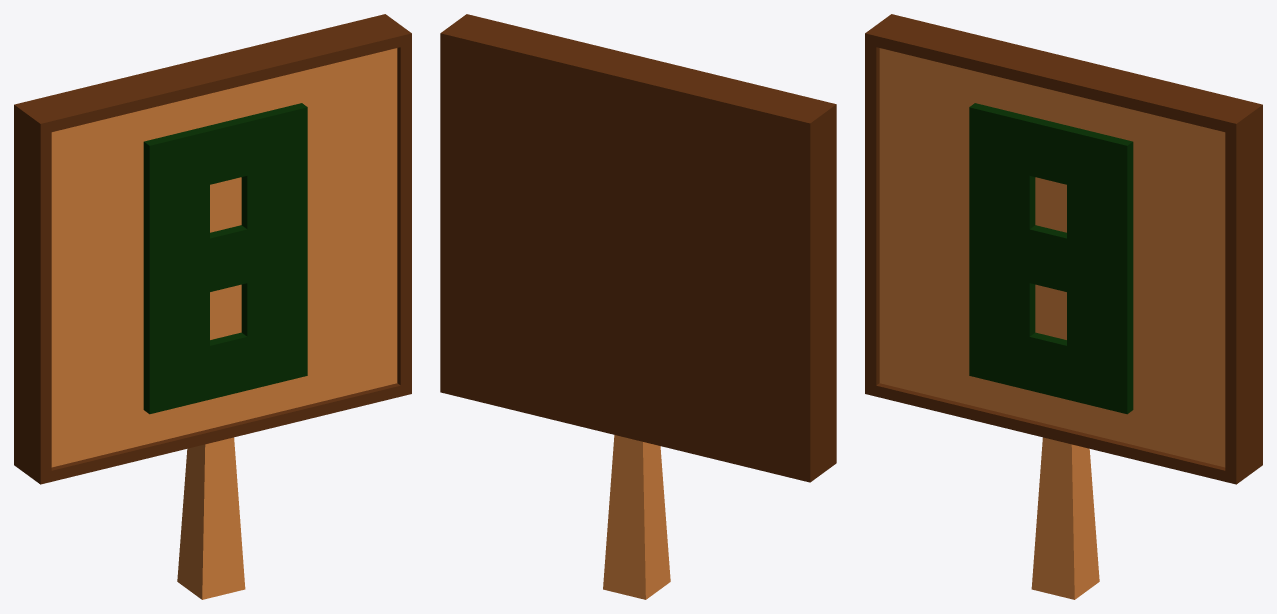
The model's file is Sign_8.fbx.
The picture shows the model from 3 angles, left to right: view 1: azimuth 30°, elevation 25°; view 2: azimuth 150°, elevation 25°; view 3: azimuth 330°, elevation 25°; orthographic projection.
Parts seen in each view (by area): view 1: Cube; view 2: Cube; view 3: Cube.
Boxes of the visible parts, x1,y1,x2,y2 form: Cube: (14, 14, 411, 599); Cube: (440, 14, 836, 599); Cube: (865, 14, 1262, 599).
Size of the model in its own units: 171 by 228 by 23.88.
